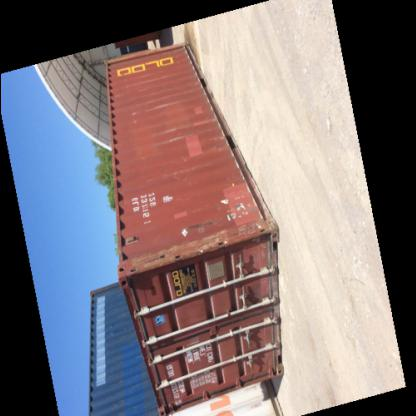Damage: (124, 241, 212, 278), (218, 188, 266, 240), (150, 120, 222, 148), (136, 95, 206, 113), (120, 66, 172, 90), (159, 162, 191, 192), (176, 218, 216, 238), (155, 195, 174, 209), (124, 113, 138, 131)
